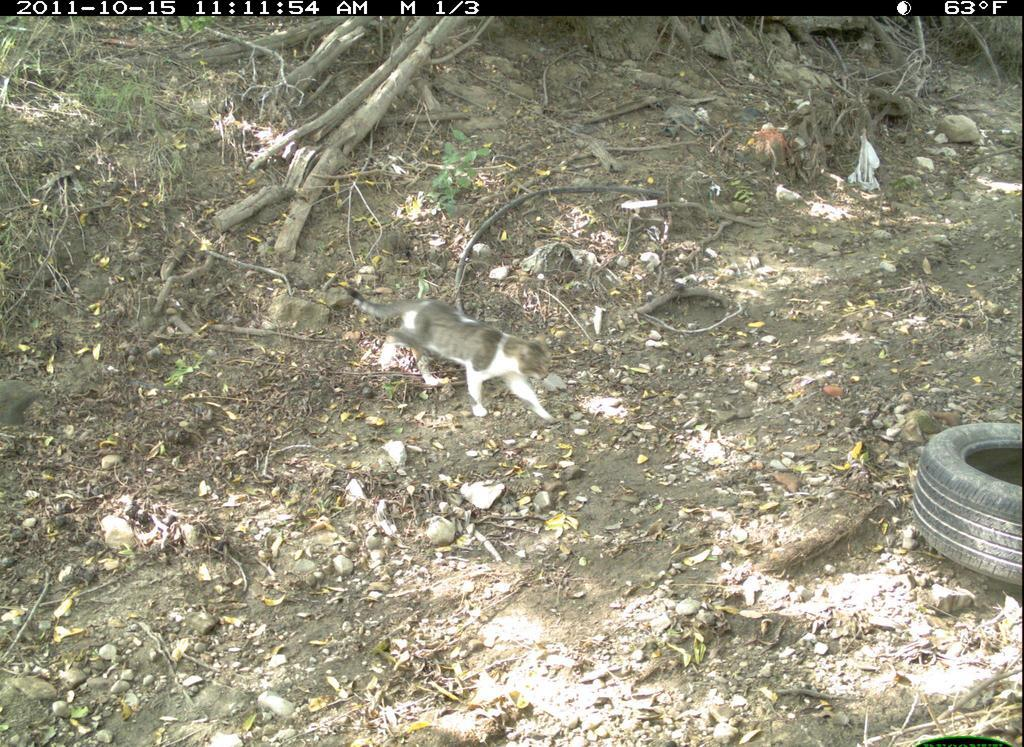cat: (332, 268, 570, 434)
